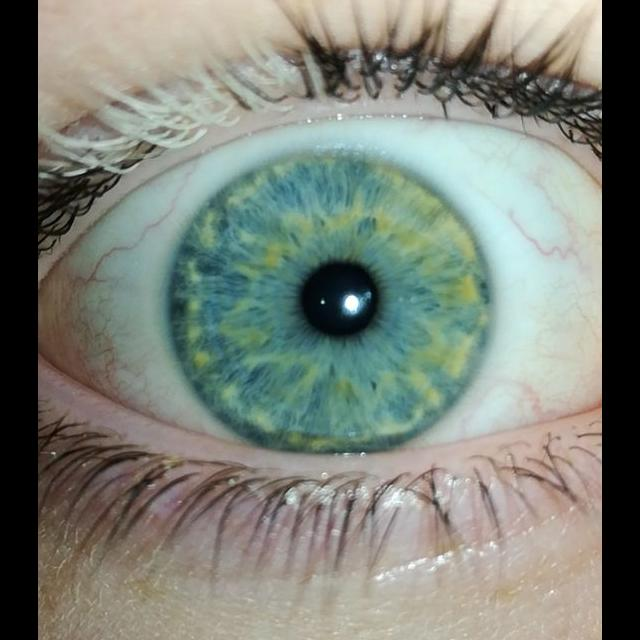eye: (41, 117, 602, 456)
iris: (175, 148, 493, 452)
